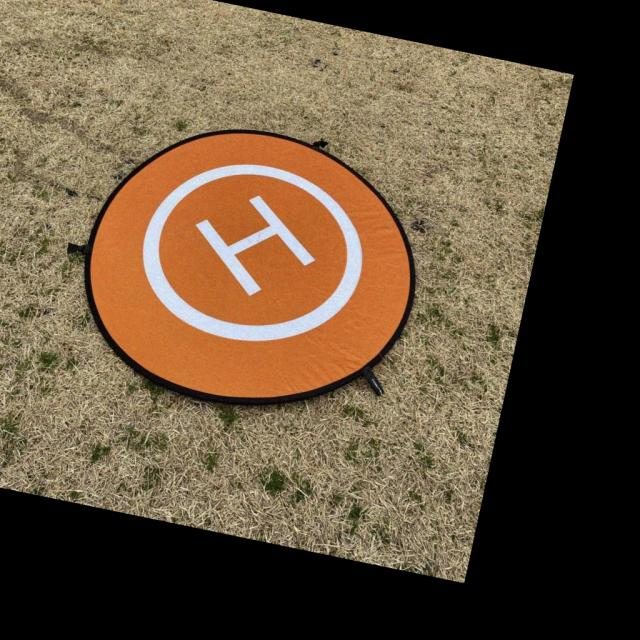helipad: (139, 156, 362, 348)
